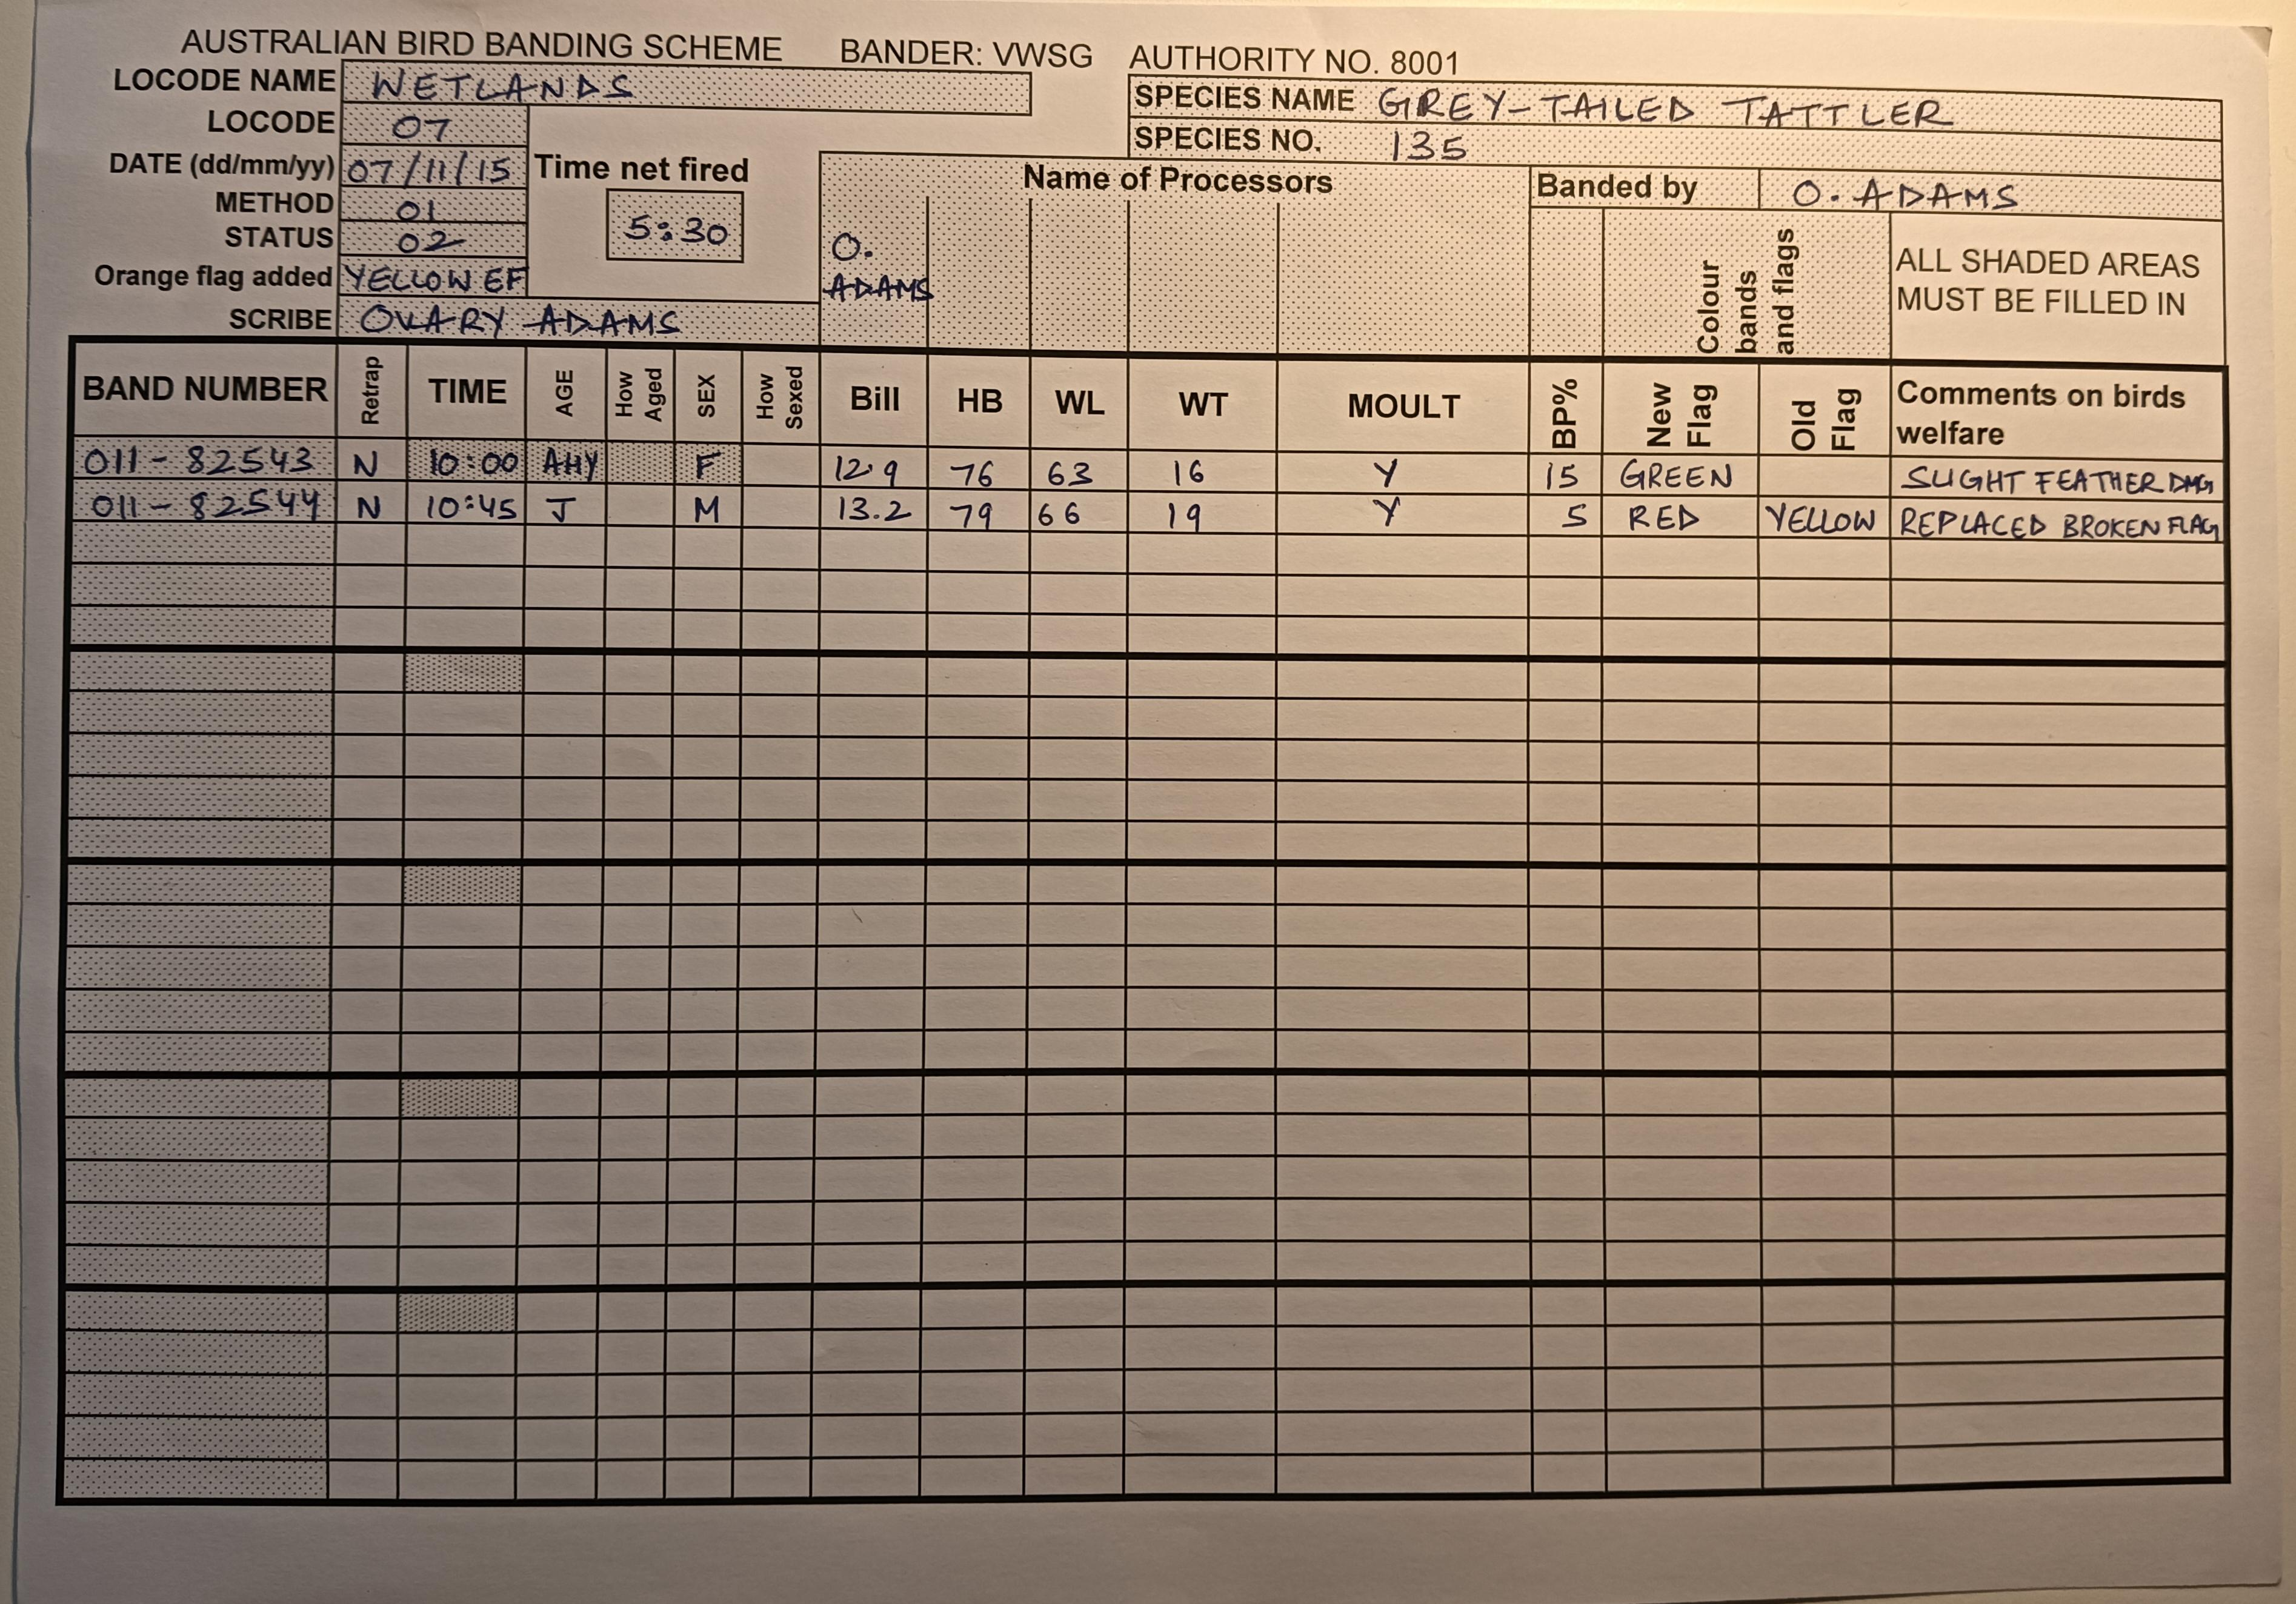BANDED_BY: (1534, 166, 2223, 222)
DATA: (70, 475, 2226, 543), (73, 436, 2226, 504)
DATE: (108, 145, 529, 195)
LOCOCODE: (155, 106, 529, 148)
LOCOCODE_NAME: (99, 58, 1033, 124)
METHOD: (187, 189, 518, 222)
NAME_OF_PROCESSORS: (818, 204, 940, 328)
ORANGE_FLAG_ADDED: (91, 251, 529, 295)
SCRIBE: (197, 295, 820, 347)
SPECIES_NAME: (1131, 79, 2223, 141)
SPECIES_NO: (1131, 119, 2223, 175)
STATUS: (206, 220, 523, 257)
TIME_NET_FIRED: (537, 134, 787, 283)
